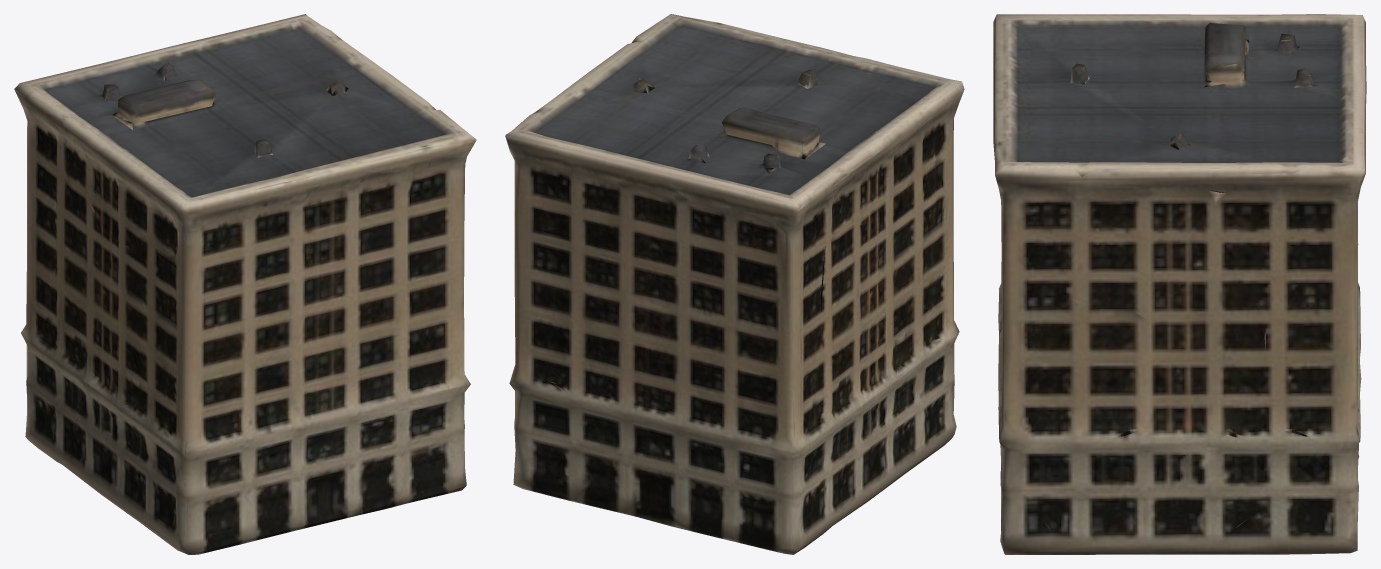
The model's file is gen_low2_chicago_school.glb.
3 views of the same model, side by side, from view 1: azimuth 30°, elevation 25°; view 2: azimuth 150°, elevation 25°; view 3: azimuth 270°, elevation 25° (orthographic). The views are drawn at different scales.
Parts seen in each view (by area): view 1: gen_low2_chicago_school; view 2: gen_low2_chicago_school; view 3: gen_low2_chicago_school.
Part boxes in pixels (x1,y1,x2,y2): gen_low2_chicago_school: (14, 14, 476, 554); gen_low2_chicago_school: (505, 14, 964, 554); gen_low2_chicago_school: (993, 14, 1366, 554).
Size of the model in its own units: 25 by 30 by 24.87.
1 material, 1 textured.
